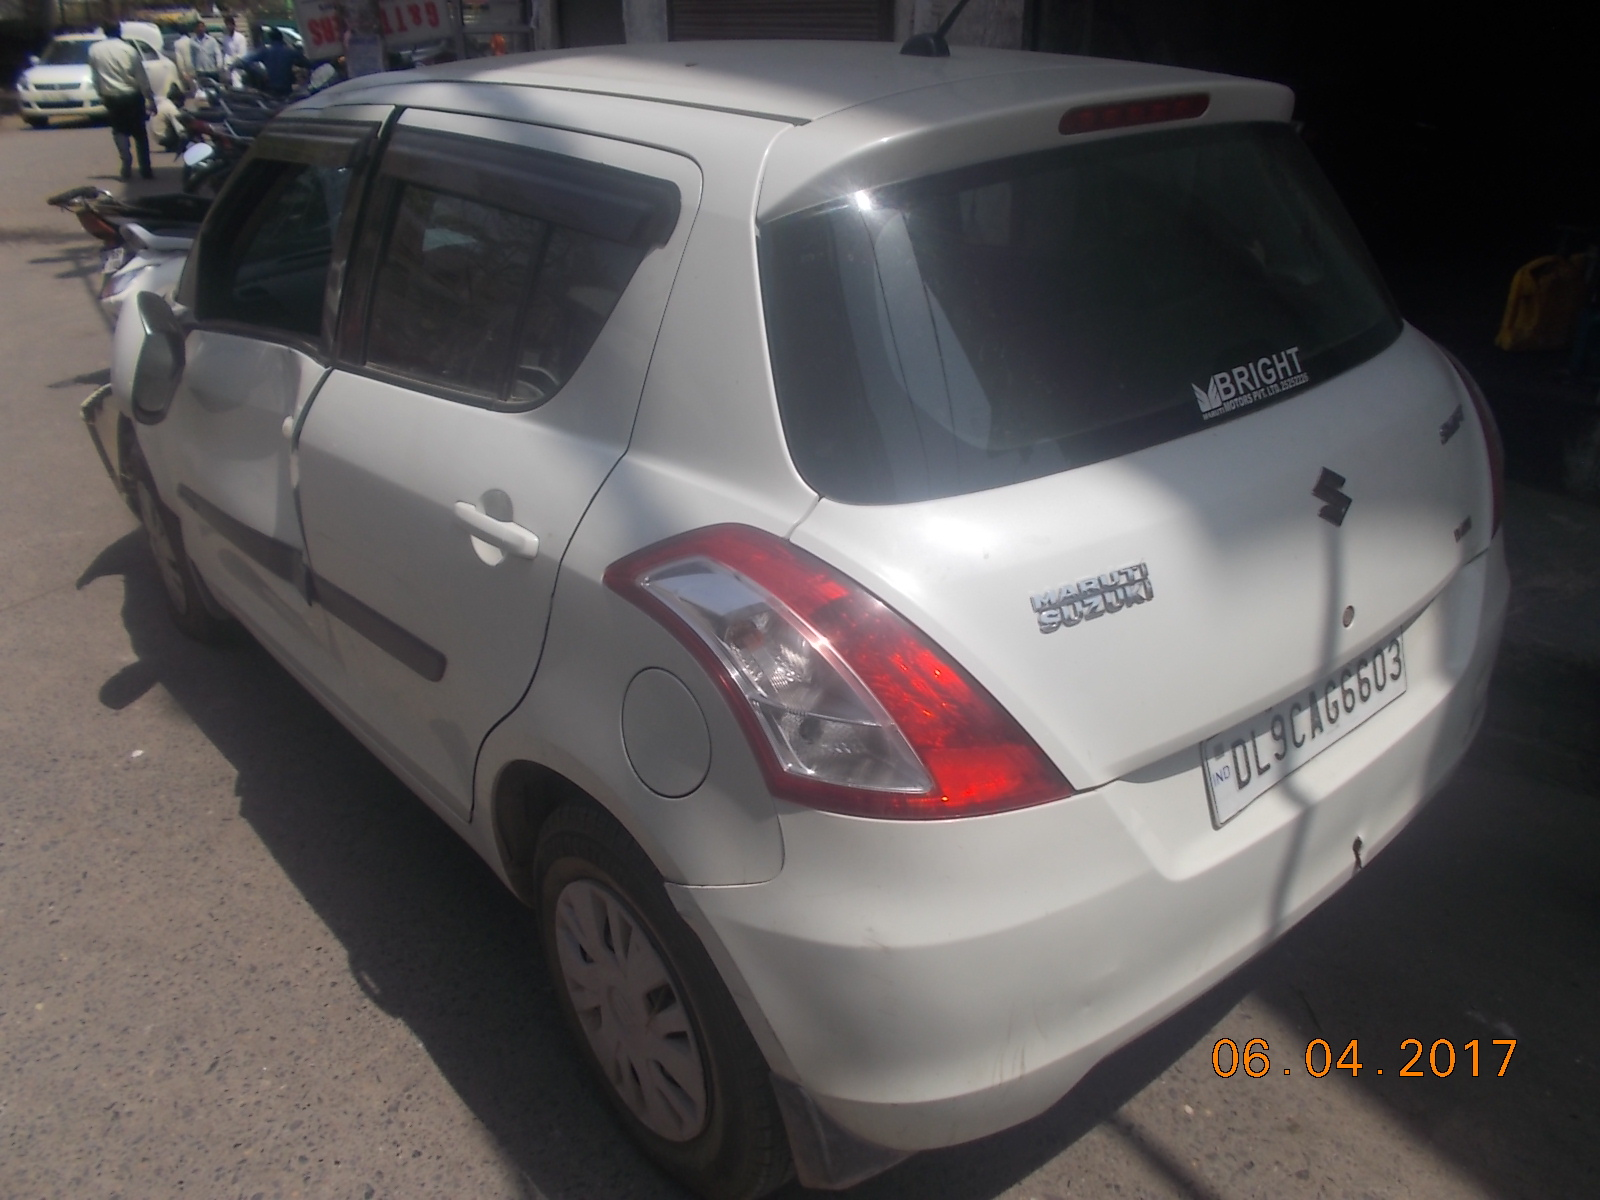Tear: (862, 516, 944, 718)
